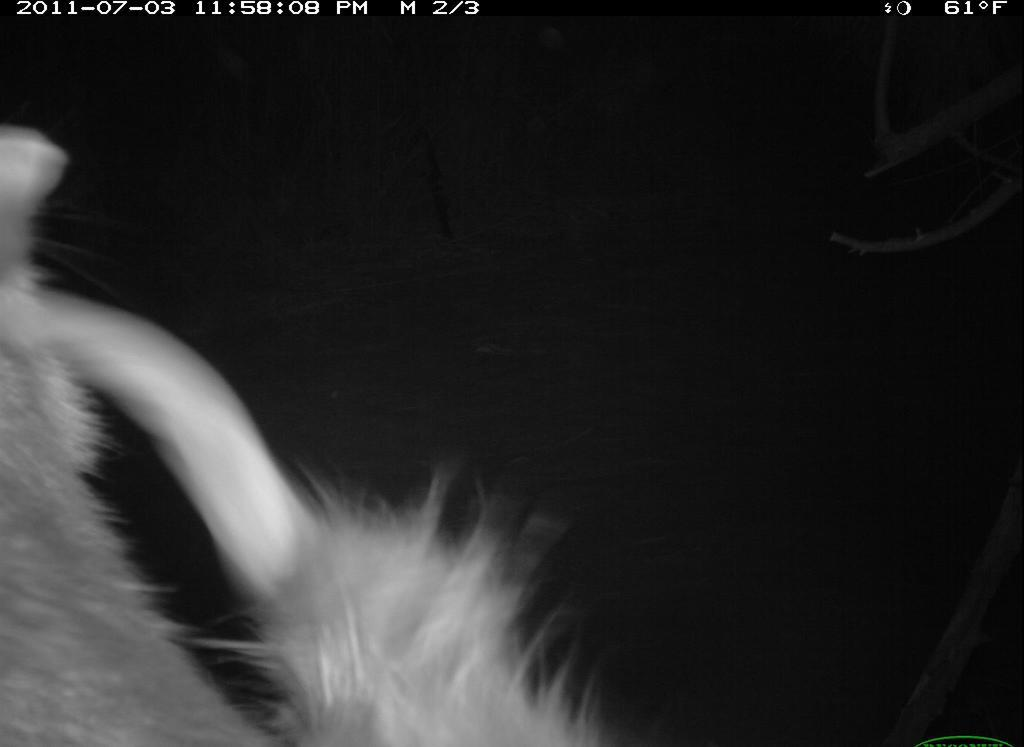raccoon: (1, 122, 638, 745)
